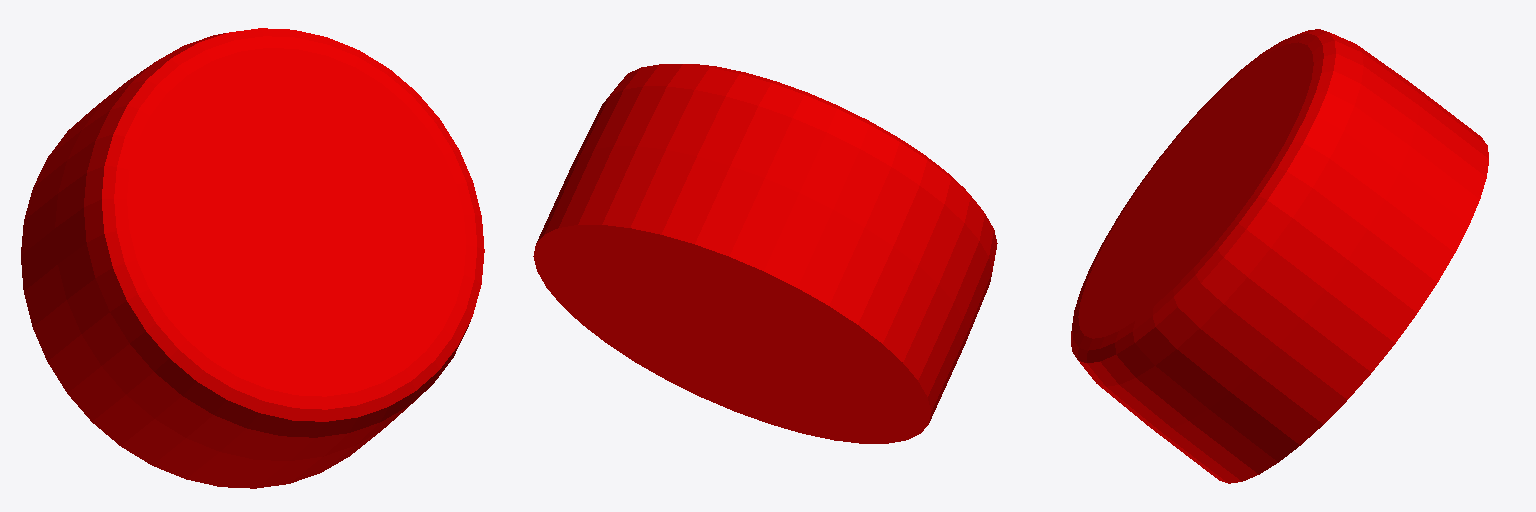
The model's file is Events-Btn-Sync2.obj.
3 renders of one model, left to right at view 1: azimuth 30°, elevation 25°; view 2: azimuth 150°, elevation 25°; view 3: azimuth 270°, elevation 25°, orthographic.
Parts seen in each view (by area): view 1: Events-Btn-Sync2_Bouton.008; view 2: Events-Btn-Sync2_Bouton.008; view 3: Events-Btn-Sync2_Bouton.008.
Part boxes in pixels (bbox=[...]): Events-Btn-Sync2_Bouton.008: bbox=[21, 28, 484, 488]; Events-Btn-Sync2_Bouton.008: bbox=[533, 64, 997, 443]; Events-Btn-Sync2_Bouton.008: bbox=[1071, 29, 1488, 483].
Bounding box in the file's own units: 0.1298 × 0.1341 × 0.1255.